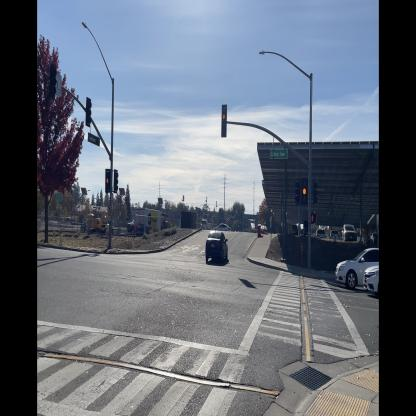yellow: (220, 103, 228, 139), (300, 176, 308, 207), (105, 168, 111, 194)
